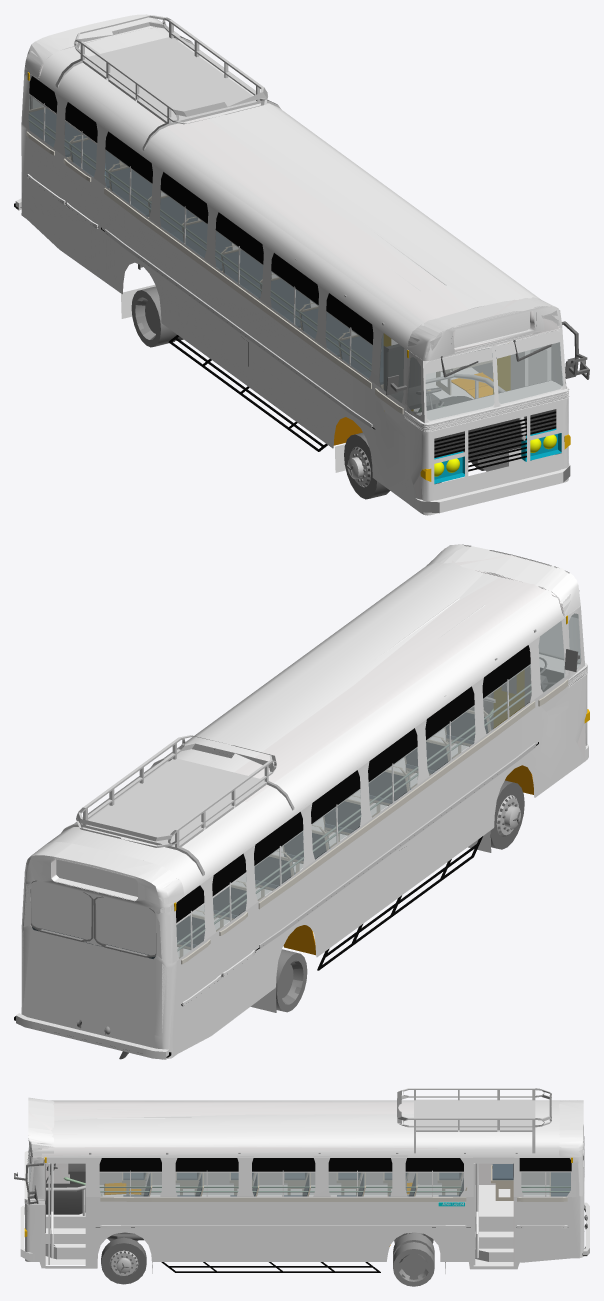
The model's file is viking.glb.
The picture shows the model from 3 angles, top to bottom: view 1: azimuth 30°, elevation 25°; view 2: azimuth 150°, elevation 25°; view 3: azimuth 270°, elevation 25°; orthographic projection. The views are drawn at different scales.
Parts seen in each view (by area): view 1: Object_12, Object_78, Object_25, Object_17, Object_43, Object_51, Object_57, Object_3, Object_61, Object_22, Object_60, Object_19 (+11 smaller); view 2: Object_12, Object_25, Object_78, Object_17, Object_51, Object_18, Object_43, Object_57, Object_60, Object_35, Object_19, Object_44 (+9 smaller); view 3: Object_12, Object_25, Object_78, Object_6, Object_17, Object_53, Object_43, Object_57, Object_42, Object_52, Object_73, Object_44 (+13 smaller).
Boxes of the visible parts, bbox=[...] form: Object_12: bbox=[21, 14, 569, 515]; Object_78: bbox=[28, 95, 563, 420]; Object_25: bbox=[27, 27, 563, 499]; Object_17: bbox=[55, 15, 281, 150]; Object_43: bbox=[29, 108, 383, 384]; Object_51: bbox=[14, 76, 373, 344]; Object_57: bbox=[26, 131, 403, 414]; Object_3: bbox=[421, 396, 556, 460]; Object_61: bbox=[434, 411, 556, 471]; Object_22: bbox=[415, 463, 570, 513]; Object_60: bbox=[104, 150, 372, 428]; Object_19: bbox=[131, 286, 178, 347]; Object_12: bbox=[21, 544, 587, 1059]; Object_25: bbox=[30, 545, 585, 982]; Object_78: bbox=[176, 613, 581, 958]; Object_17: bbox=[61, 735, 294, 875]; Object_51: bbox=[14, 645, 530, 1057]; Object_18: bbox=[25, 876, 156, 956]; Object_43: bbox=[32, 712, 492, 958]; Object_57: bbox=[181, 679, 568, 964]; Object_60: bbox=[254, 665, 535, 948]; Object_35: bbox=[16, 1013, 169, 1059]; Object_19: bbox=[276, 949, 307, 1012]; Object_44: bbox=[177, 684, 531, 950]; Object_12: bbox=[24, 1097, 584, 1269]; Object_25: bbox=[27, 1101, 571, 1268]; Object_78: bbox=[28, 1147, 570, 1195]; Object_6: bbox=[45, 1185, 549, 1266]; Object_17: bbox=[397, 1088, 551, 1153]; Object_53: bbox=[99, 1158, 463, 1171]; Object_43: bbox=[123, 1163, 570, 1196]; Object_57: bbox=[100, 1197, 567, 1201]; Object_42: bbox=[122, 1165, 550, 1200]; Object_52: bbox=[100, 1225, 567, 1228]; Object_73: bbox=[393, 1242, 434, 1286]; Object_44: bbox=[99, 1186, 570, 1192].
Bounding box in the file's own units: 3.15 × 3.86 × 12.61.
